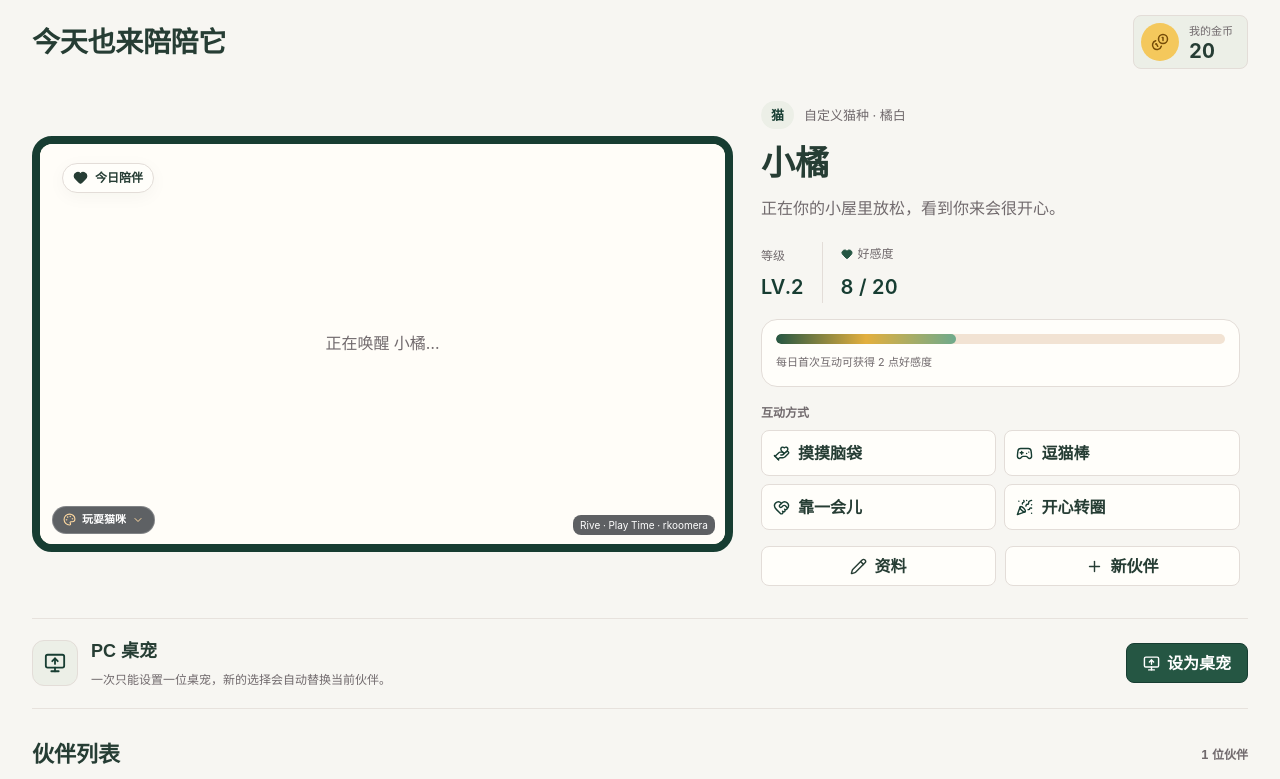
Scenario: PartnersView › keeps a saved custom kind available while editing older data
This screenshot has width=1280, height=779.
Click the button "资料" at [878, 566], box [761,546,996,586]
(page scrolled)
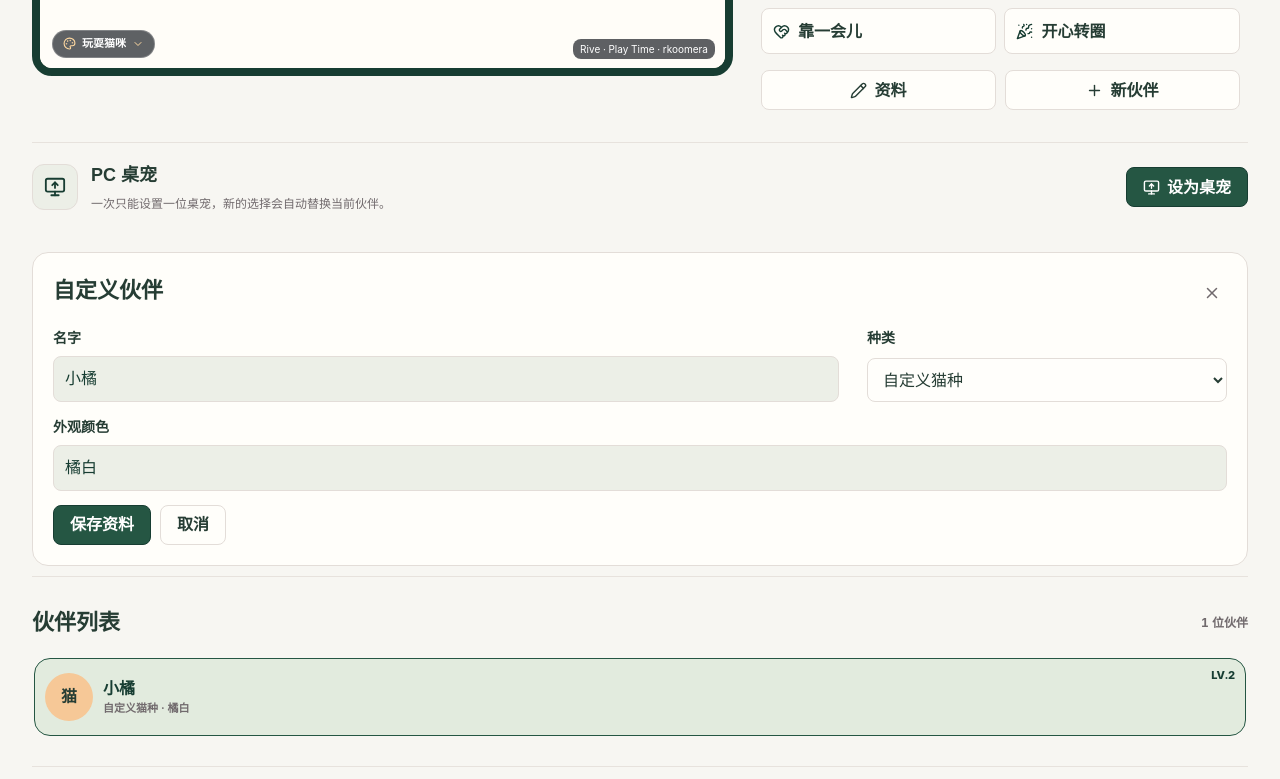
Check: the dropdown labelled "种类" shows "自定义猫种", box [867,358,1227,402]
